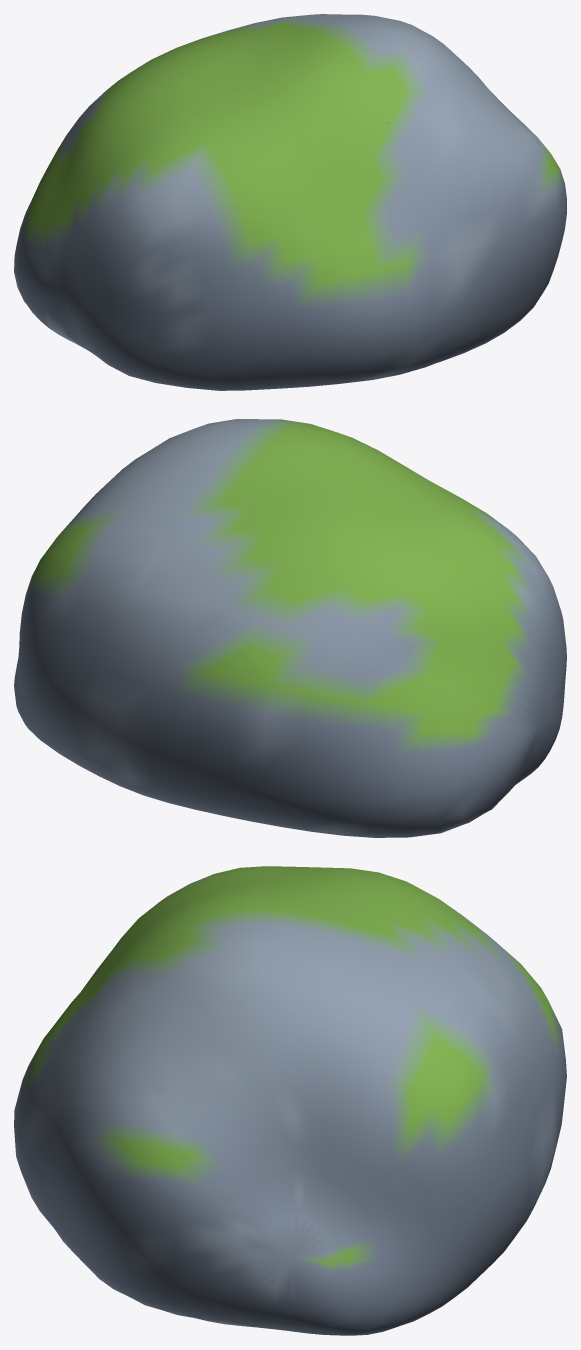
The model's file is rock_big.glb.
The picture shows the model from 3 angles, top to bottom: view 1: azimuth 30°, elevation 25°; view 2: azimuth 150°, elevation 25°; view 3: azimuth 270°, elevation 25°; orthographic projection. The views are drawn at different scales.
Parts seen in each view (by area): view 1: RockBig; view 2: RockBig; view 3: RockBig.
Part boxes in pixels (x1,y1,x2,y2): RockBig: (14,14,566,390); RockBig: (14,419,566,837); RockBig: (14,866,566,1335).
Bounding box in the file's own units: 1.47 × 0.8582 × 1.27.
Materials: 1 (1 with a texture image).
